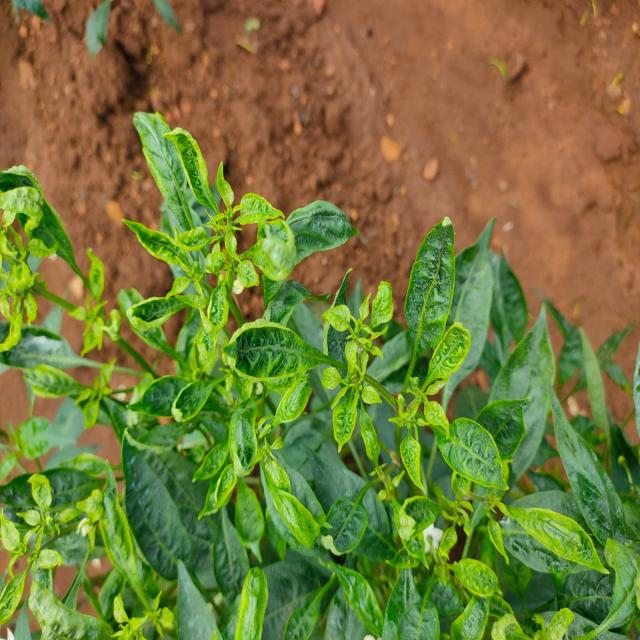Moko: (108, 74, 276, 328), (162, 272, 316, 527), (472, 439, 619, 597), (388, 482, 523, 638), (28, 175, 128, 377), (393, 275, 475, 515), (0, 445, 93, 640), (299, 252, 386, 456), (0, 115, 51, 371), (196, 535, 288, 640), (62, 422, 135, 552), (76, 547, 177, 640)
